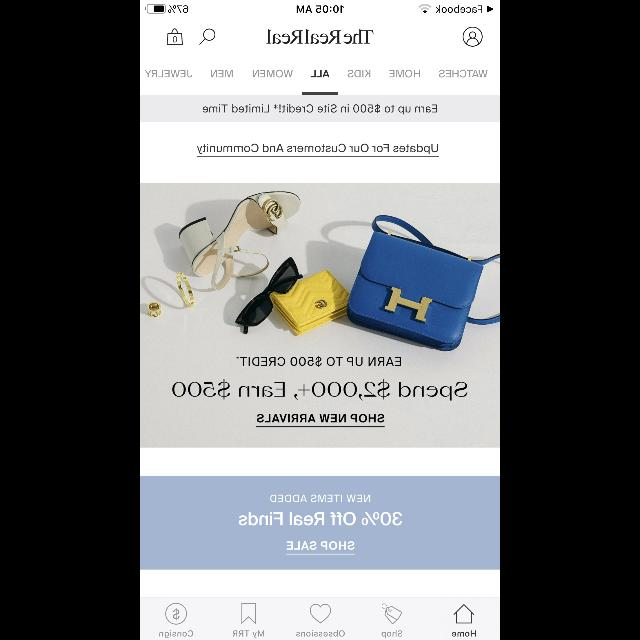icon: (166, 604, 187, 624), (382, 604, 402, 624), (462, 27, 482, 47), (310, 604, 330, 622), (454, 604, 474, 622), (242, 602, 256, 624), (167, 29, 183, 45), (199, 29, 215, 45)
image: (140, 183, 500, 447)
text: (172, 380, 468, 400), (203, 104, 437, 115), (198, 144, 438, 154), (238, 512, 402, 526), (237, 357, 401, 368), (266, 30, 374, 44), (257, 414, 385, 422), (270, 494, 370, 502), (287, 542, 355, 550), (144, 70, 192, 78), (439, 70, 487, 78), (253, 70, 293, 78), (296, 630, 344, 636), (159, 630, 193, 638), (233, 630, 264, 638), (390, 70, 420, 78), (348, 70, 370, 78), (382, 630, 402, 638), (452, 630, 476, 636), (211, 70, 233, 76), (310, 70, 330, 76)
uppertaskbar: (140, 0, 500, 14)
